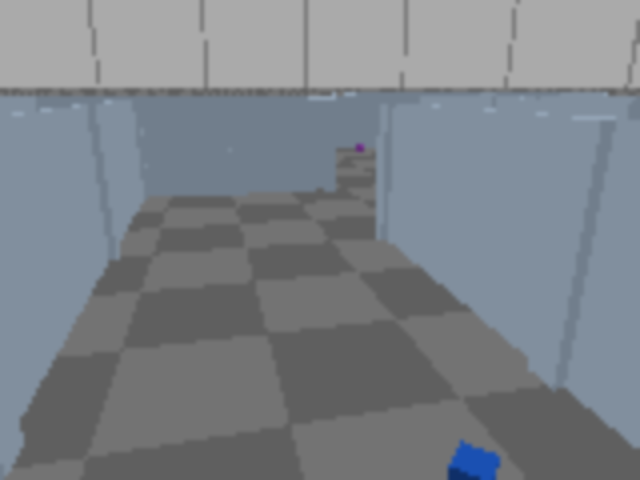puck: (446, 441, 500, 478)
